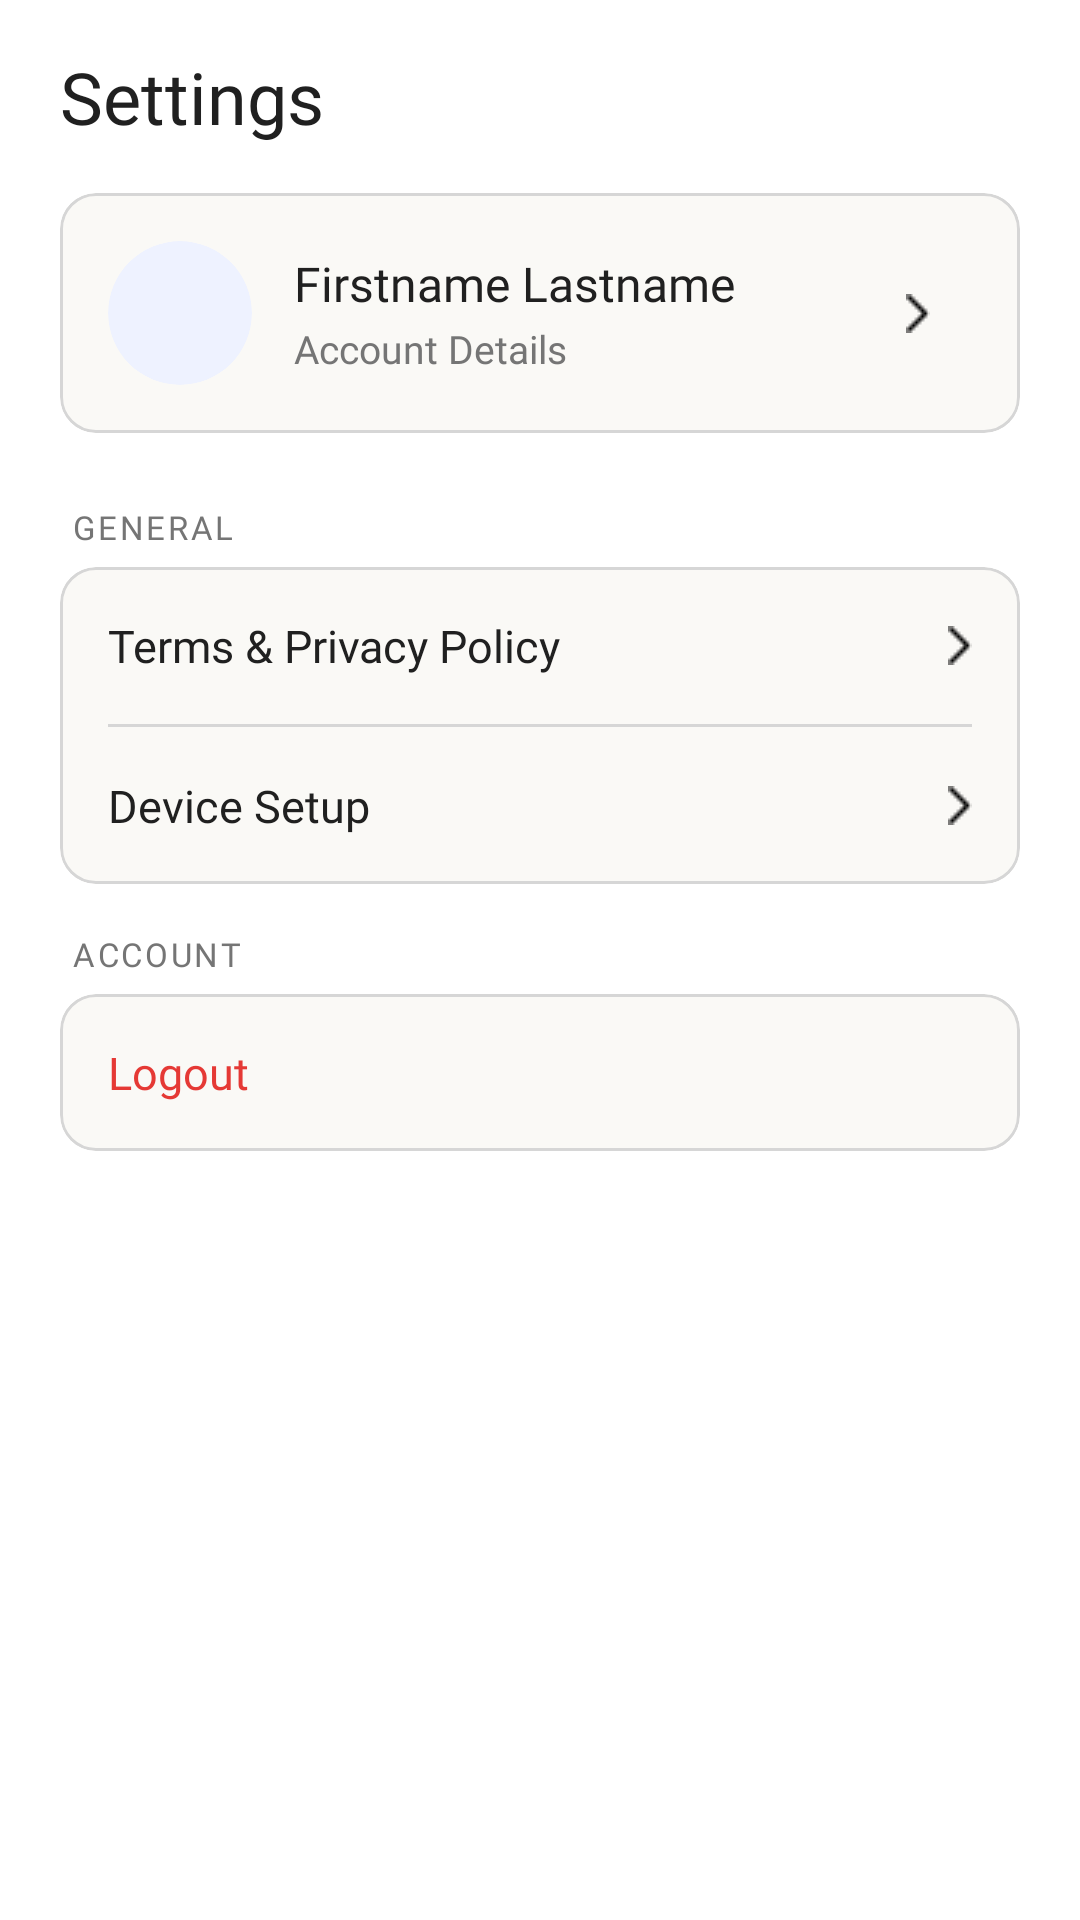

Locate icon controls on the screen. Image size 1080w x 1920h, boxes as {"x1": x1, "y1": y1, "x2": x2, "y2": y2}.
Go to account details: {"x1": 906, "y1": 294, "x2": 930, "y2": 333}
